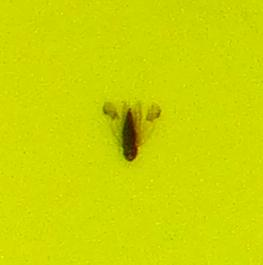Hemiptera: (100, 100, 163, 165)
